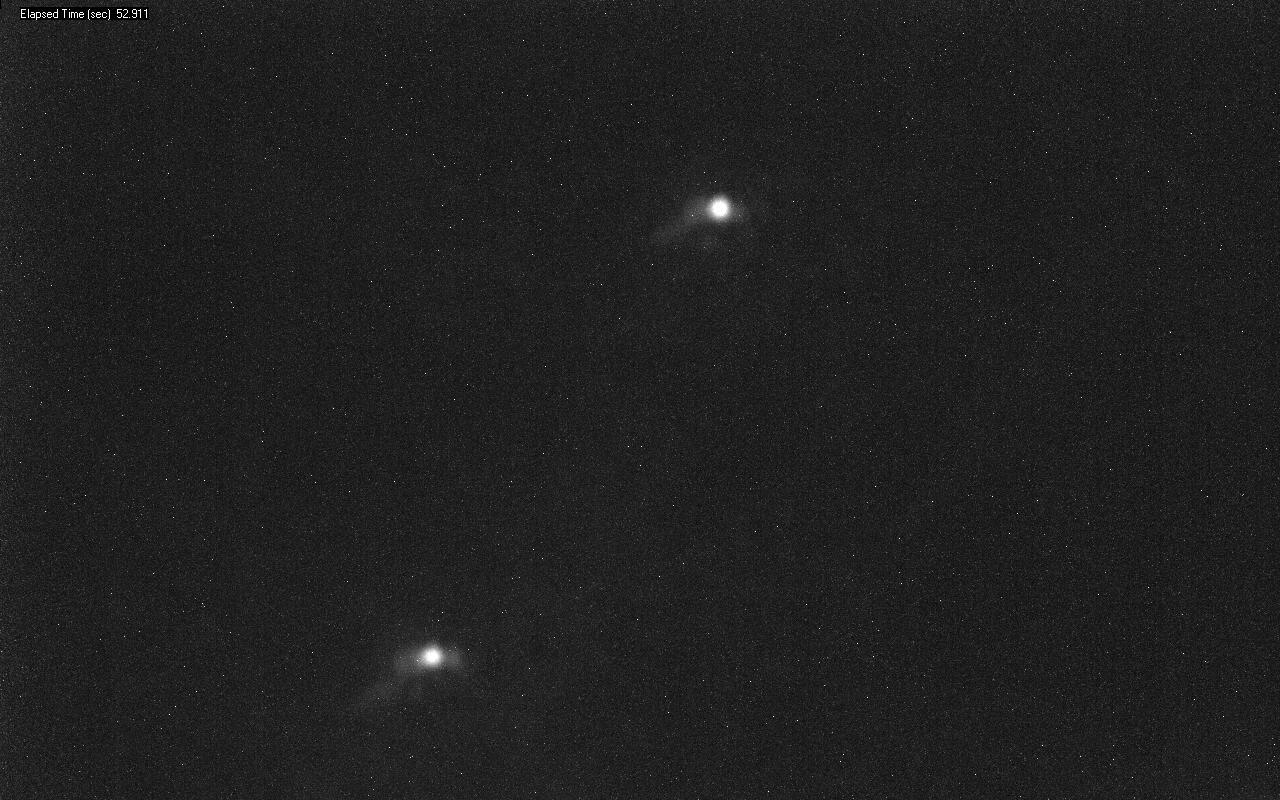Bead: (692, 195, 734, 224), (418, 646, 443, 668)
